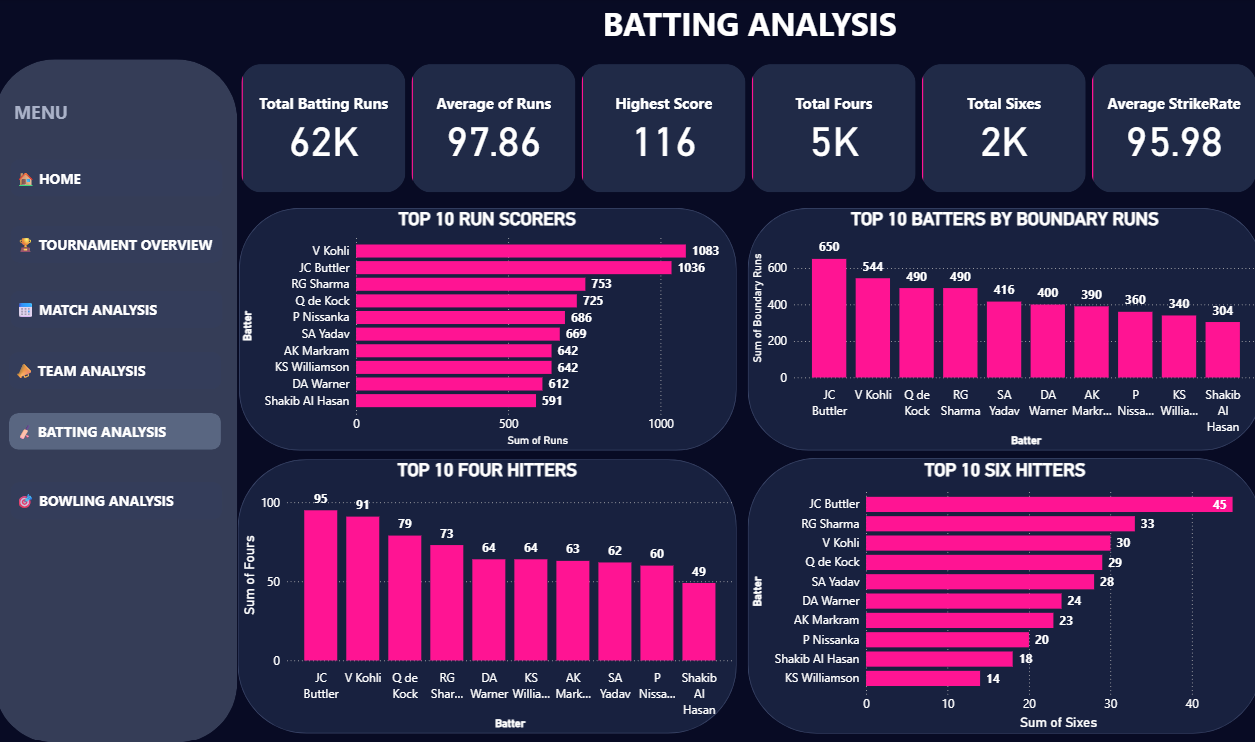

What the dashboard file says about the page in this screenshot:
{"tool":"powerbi","page":{"name":"BATTING ANALYSIS","canvas":[1700,1000],"ordinal":4},"visuals":[{"type":"shape","box":[1010.8,617.2,689.2,369.6],"z":0},{"type":"shape","box":[327.1,619,668.9,367.7],"z":1000},{"type":"shape","box":[328.9,280.9,667.1,325.2],"z":2000},{"type":"shape","box":[1010.8,280.9,689.2,325.2],"z":3000},{"type":"shape","box":[0,82.9,326.1,917.1],"z":4000},{"type":"textbox","box":[21.8,132.4,196,43.6],"z":5000},{"type":"actionButton","box":[21.8,216.2,284.9,50.3],"z":6000},{"type":"actionButton","box":[21.8,305,284.9,50.3],"z":7000},{"type":"actionButton","box":[20.1,474.2,284.9,50.3],"z":8000},{"type":"actionButton","box":[21.8,392.1,284.9,50.3],"z":9000},{"type":"actionButton","box":[20,555.9,284.3,49.2],"z":10000},{"type":"actionButton","box":[21.9,648.8,284.3,51],"z":11000},{"type":"textbox","box":[326.7,0,1372.3,83.8],"z":12000},{"type":"cardVisual","fields":{"Data":["Sum(batting_summary.Runs)","Avg(batting_summary.Runs)","Teams_Winner.Highest Scores","Sum(batting_summary.Fours)","Sum(batting_summary.Sixes)","Avg(batting_summary.StrikeRate)"]},"box":[326.7,83.8,1372.3,182.6],"z":13000},{"type":"clusteredBarChart","title":"TOP 10 RUN SCORERS","fields":{"Y":["Sum(batting_summary.Runs)"],"Category":["batting_summary.Batter"]},"box":[327.1,280.9,668.9,325.2],"z":14000},{"type":"clusteredBarChart","title":"TOP 10 SIX HITTERS","fields":{"Category":["batting_summary.Batter"],"Y":["Sum(batting_summary.Sixes)"]},"box":[1010.8,619,689.2,367.7],"z":15000},{"type":"columnChart","title":"TOP 10 FOUR HITTERS","fields":{"Category":["batting_summary.Batter"],"Y":["Sum(batting_summary.Fours)"]},"box":[327.1,619,668.9,367.7],"z":16000},{"type":"columnChart","title":"TOP 10 BATTERS BY BOUNDARY RUNS","fields":{"Category":["batting_summary.Batter"],"Y":["Sum(batting_summary.Boundary Runs)"]},"box":[1010.8,280.9,689.2,325.2],"z":17000}]}

Visuals, with their boxes in screenshot pixels (x1, y1, x2, y2), scaled from the page's 1700x1000 canvas onto the 1255x742 screenshot:
shape: <bbox>746, 458, 1254, 732</bbox>
shape: <bbox>241, 459, 735, 732</bbox>
shape: <bbox>243, 208, 735, 450</bbox>
shape: <bbox>746, 208, 1254, 450</bbox>
shape: <bbox>0, 62, 241, 741</bbox>
textbox: <bbox>16, 98, 161, 131</bbox>
actionButton: <bbox>16, 160, 226, 198</bbox>
actionButton: <bbox>16, 226, 226, 264</bbox>
actionButton: <bbox>15, 352, 225, 389</bbox>
actionButton: <bbox>16, 291, 226, 328</bbox>
actionButton: <bbox>15, 412, 225, 449</bbox>
actionButton: <bbox>16, 481, 226, 519</bbox>
textbox: <bbox>241, 0, 1254, 62</bbox>
cardVisual - Sum(batting_summary.Runs) x Avg(batting_summary.Runs): <bbox>241, 62, 1254, 198</bbox>
"TOP 10 RUN SCORERS" clusteredBarChart: <bbox>241, 208, 735, 450</bbox>
"TOP 10 SIX HITTERS" clusteredBarChart: <bbox>746, 459, 1254, 732</bbox>
"TOP 10 FOUR HITTERS" columnChart: <bbox>241, 459, 735, 732</bbox>
"TOP 10 BATTERS BY BOUNDARY RUNS" columnChart: <bbox>746, 208, 1254, 450</bbox>
